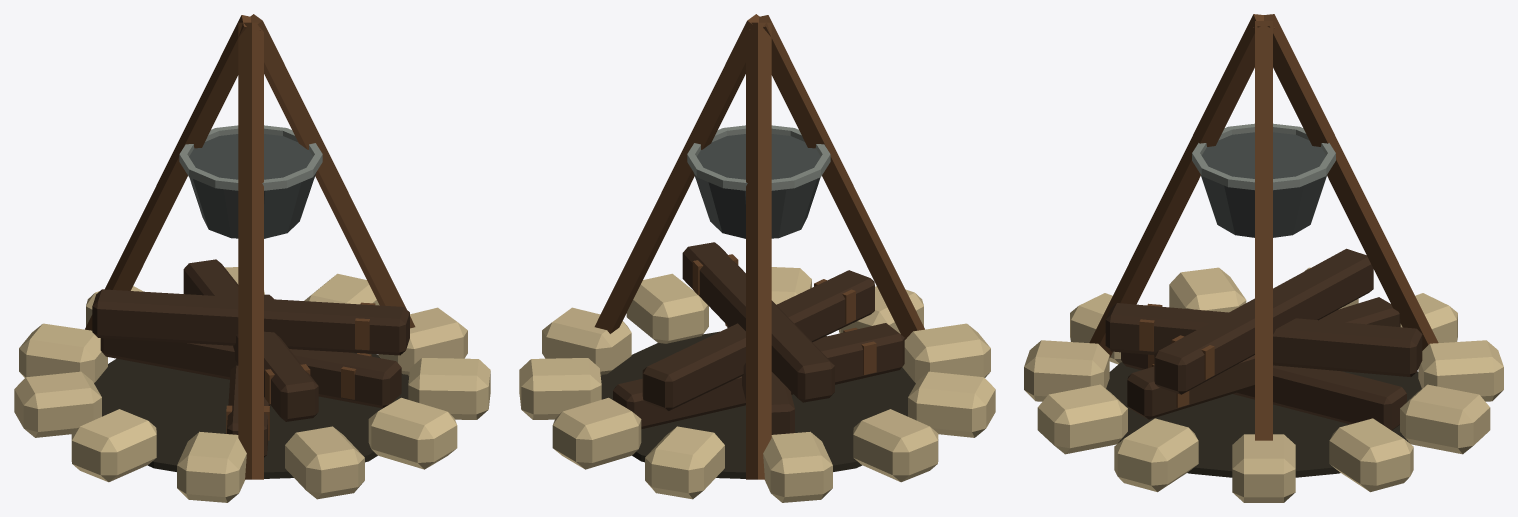
File: campfire.glb
3 views of the same model, side by side, from view 1: azimuth 30°, elevation 25°; view 2: azimuth 150°, elevation 25°; view 3: azimuth 270°, elevation 25° (orthographic).
Parts seen in each view (by area): view 1: Timber, Stone, Metal; view 2: Stone, Timber, Metal; view 3: Timber, Stone, Metal.
Boxes of the visible parts, x1,y1,x2,y2 form: Timber: [85, 14, 415, 479]; Stone: [14, 267, 490, 502]; Metal: [179, 125, 322, 238]; Stone: [519, 267, 995, 502]; Timber: [594, 14, 924, 479]; Metal: [687, 125, 830, 238]; Timber: [1089, 14, 1438, 440]; Stone: [1024, 267, 1503, 502]; Metal: [1192, 123, 1335, 237].
Bounding box in the file's own units: 1.65 × 1.5 × 1.66.
